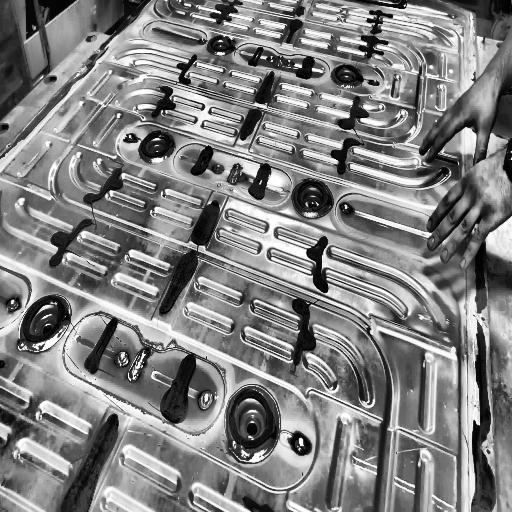b_casing: (0, 0, 477, 512)
